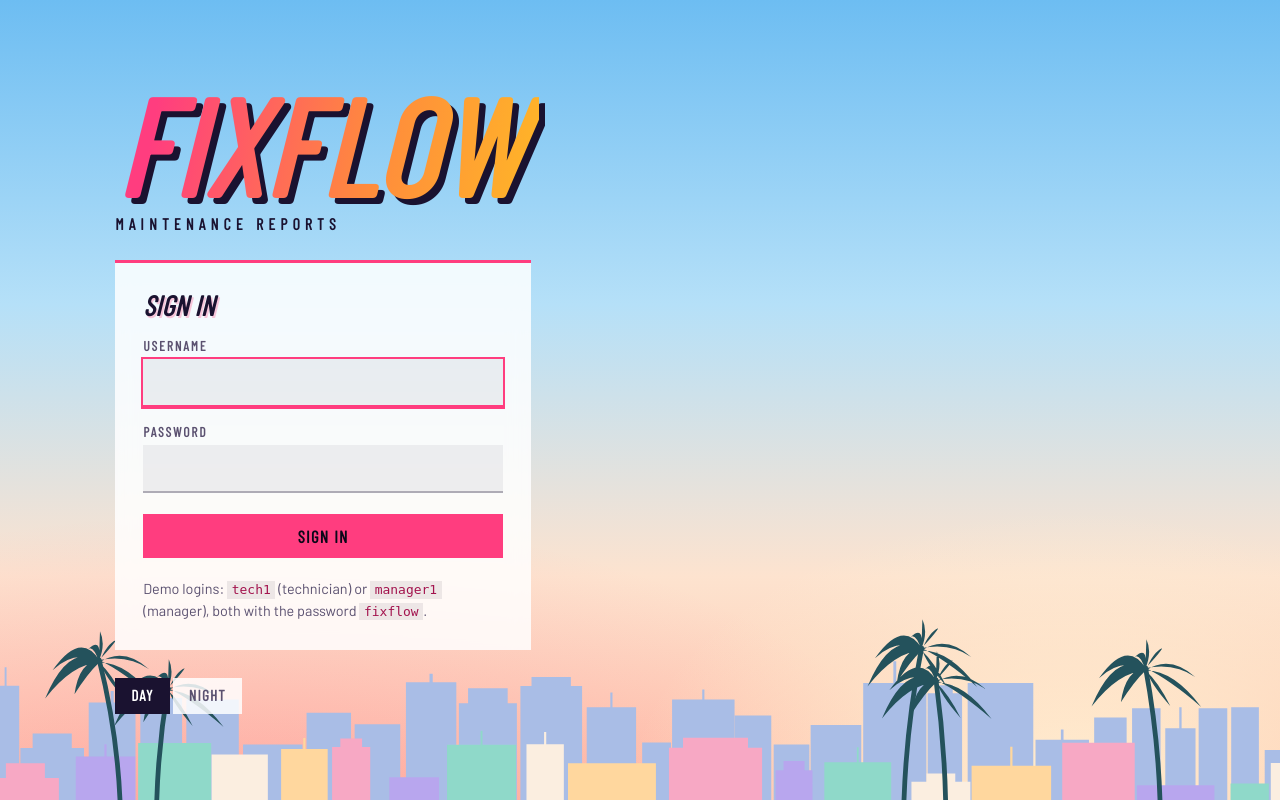
Test: signing in › signs in and continues to the page the visitor asked for
The width and height of the screenshot is (1280, 800).
Type "tech1" into the field labelled "Username".
click(323, 383); type("tech1")  # box [143,359,503,407]
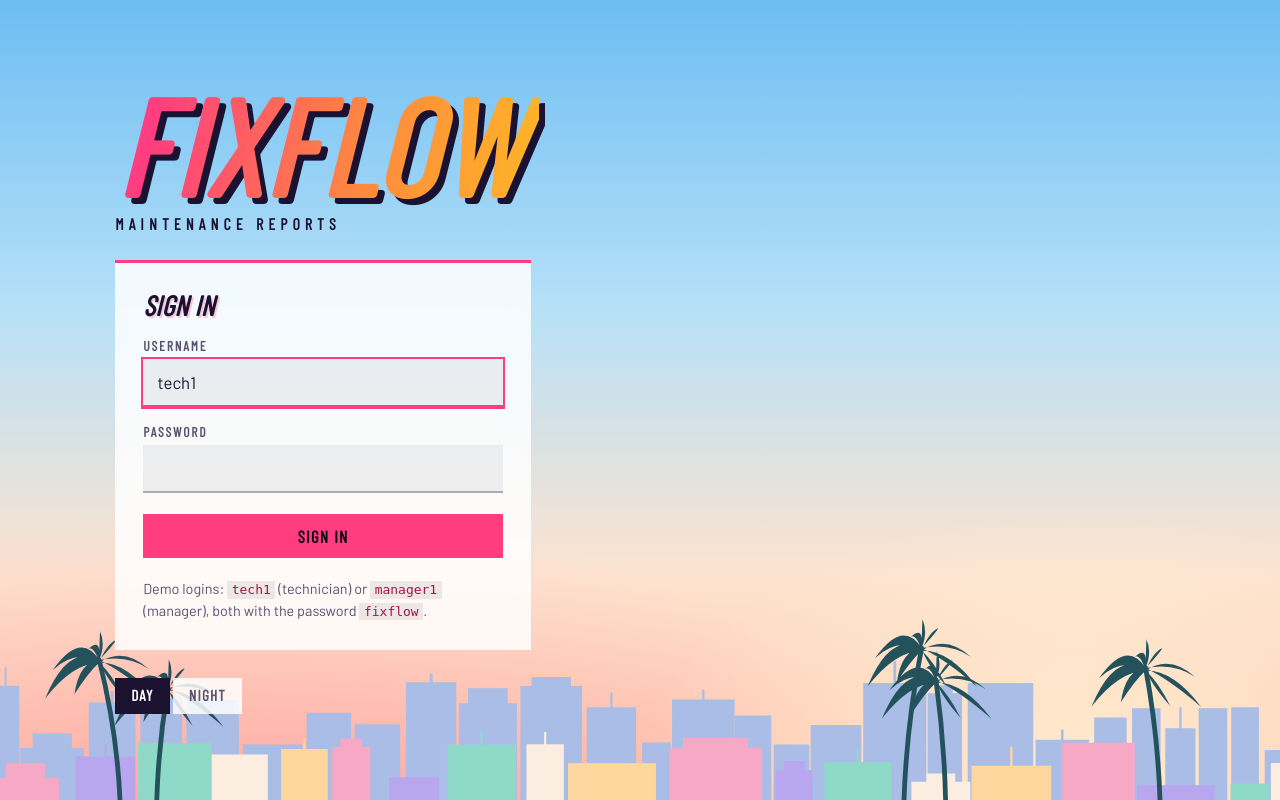
Type "fixflow" into the password field labelled "Password".
click(323, 469); type("fixflow")  # box [143,445,503,493]
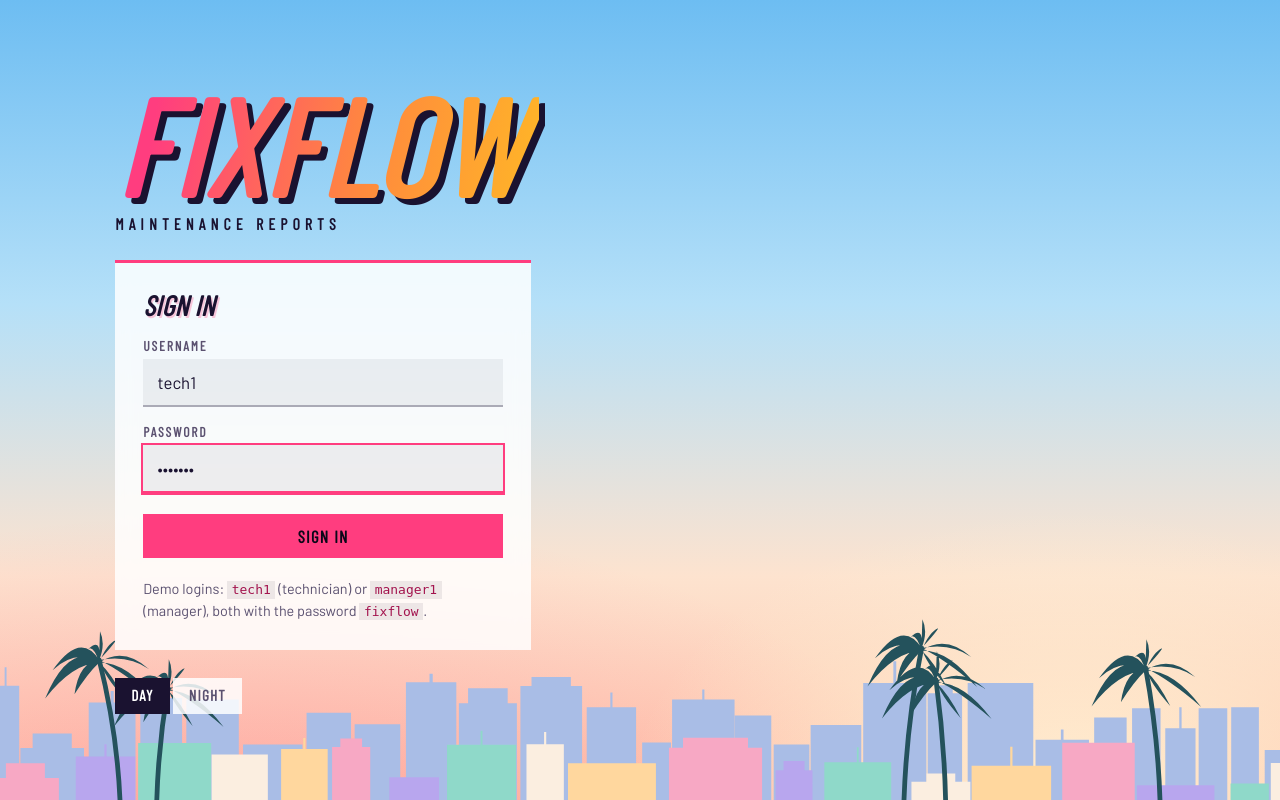
Click the button "Sign in".
click(323, 536)  # box [143,514,503,558]
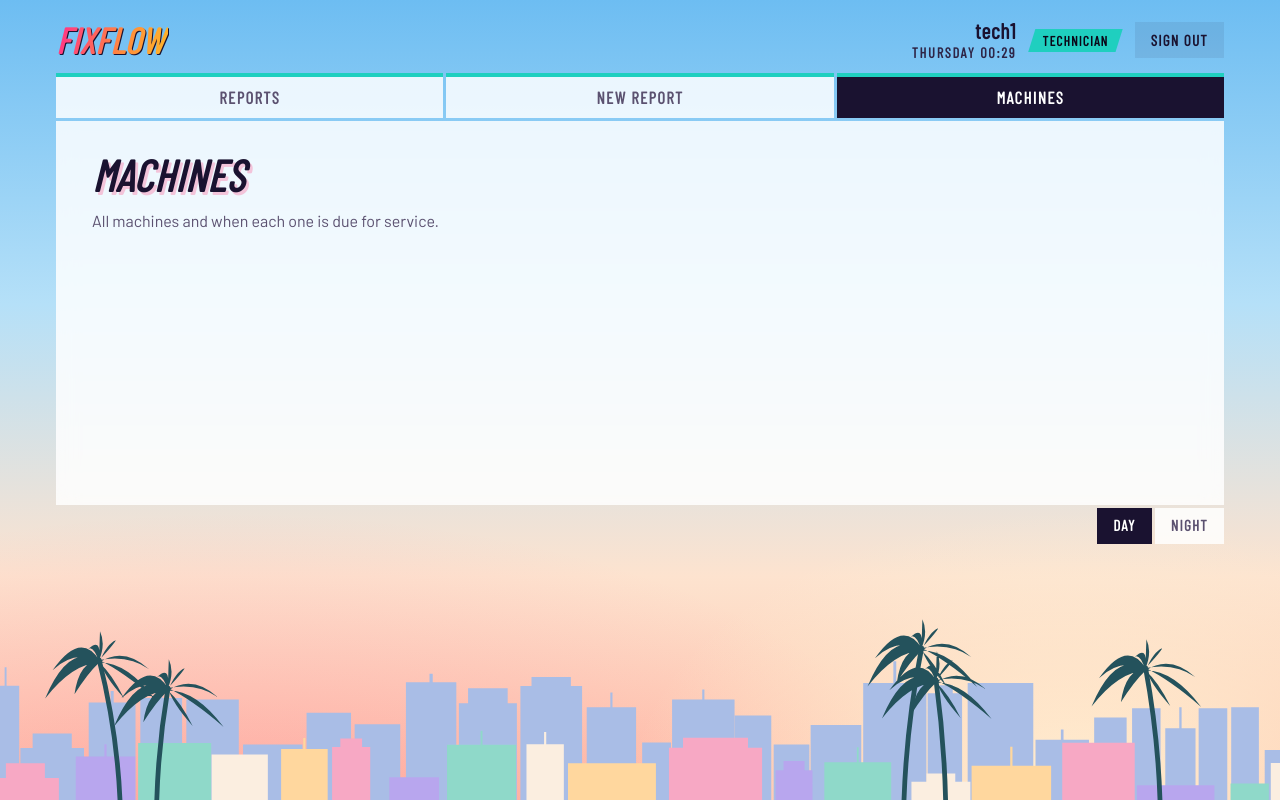
Expected: the text "tech1" is shown, [975,20,1016,42]
Expected: the heading "Machines" is shown, [92,148,245,201]
